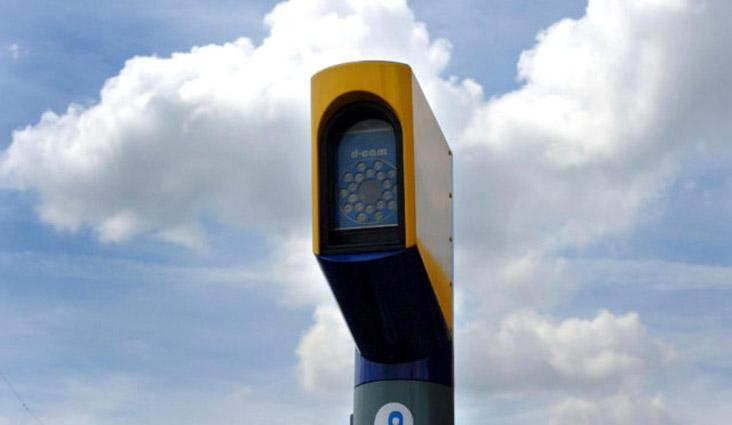Monitor: (308, 58, 456, 422)
